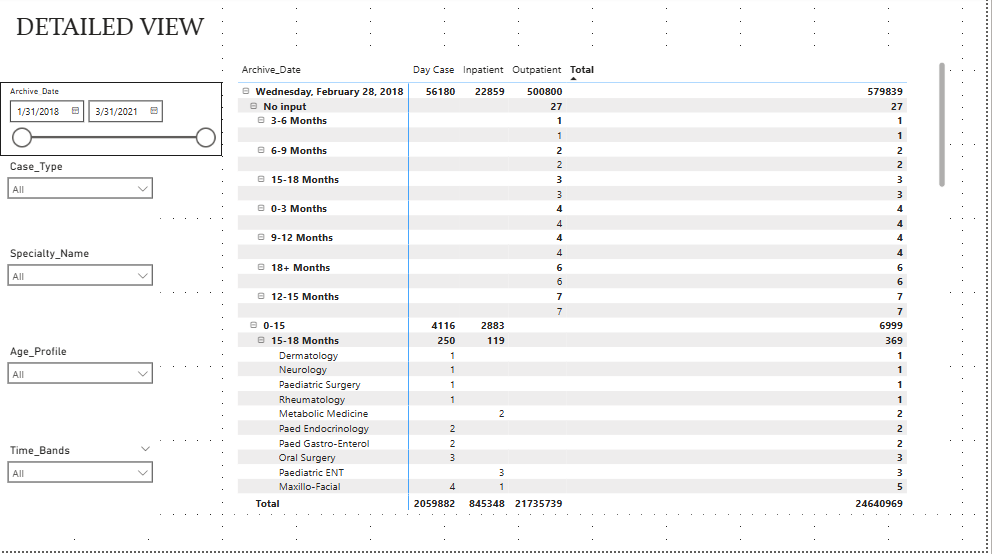

The page's visual inventory and layout, read from the dashboard file:
{"tool":"powerbi","page":{"name":"Detail","canvas":[1280,720],"ordinal":1},"visuals":[{"type":"slicer","fields":{"Values":["All Data.Archive_Date"]},"box":[0,112,288,96],"z":0},{"type":"slicer","fields":{"Values":["All Data.Case_Type"]},"box":[0,208,208,128],"z":1000},{"type":"slicer","fields":{"Values":["All Data.Specialty_Name"]},"box":[0,320,208,128],"z":2000},{"type":"textbox","box":[16,16,272,96],"z":3000},{"type":"slicer","fields":{"Values":["All Data.Age_Profile"]},"box":[0,448,208,128],"z":4000},{"type":"slicer","fields":{"Values":["All Data.Time_Bands"]},"box":[0,576,208,128],"z":5000},{"type":"pivotTable","fields":{"Rows":["All Data.Archive_Date","All Data.Age_Profile","All Data.Time_Bands","All Data.Specialty_Name"],"Columns":["All Data.Case_Type"],"Values":["Sum(All Data.Total)"]},"box":[304,80,928,592],"z":6000}]}

Visuals, with their boxes in screenshot pixels (x1, y1, x2, y2), scaled from the page's 1280x720 canvas onto the 992x554 screenshot:
slicer - All Data.Archive_Date: Rect(0, 86, 223, 160)
slicer - All Data.Case_Type: Rect(0, 160, 161, 259)
slicer - All Data.Specialty_Name: Rect(0, 246, 161, 345)
textbox: Rect(12, 12, 223, 86)
slicer - All Data.Age_Profile: Rect(0, 345, 161, 443)
slicer - All Data.Time_Bands: Rect(0, 443, 161, 542)
pivotTable - All Data.Archive_Date x All Data.Age_Profile: Rect(236, 62, 955, 517)
